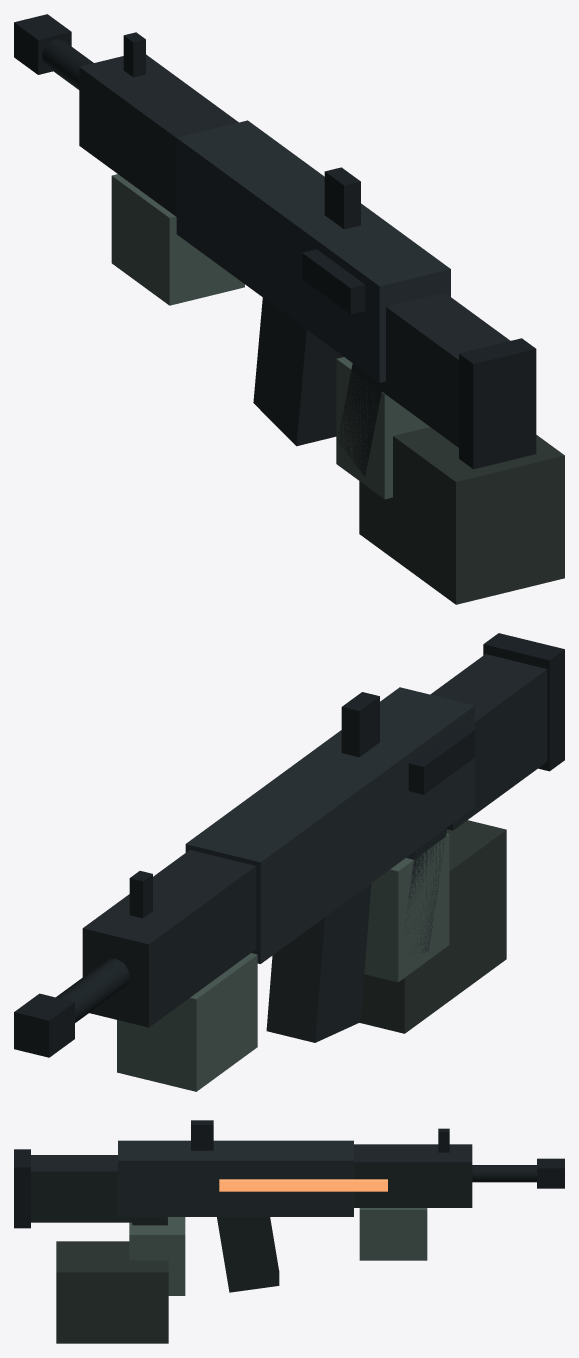
File: rifle.glb
3 renders of one model, top to bottom at view 1: azimuth 30°, elevation 25°; view 2: azimuth 150°, elevation 25°; view 3: azimuth 270°, elevation 25°, orthographic. The views are drawn at different scales.
Visible parts, largest first — view 1: Body, SleeveRear, Handguard, Stock, Buttpad, Mag, GloveFront, GloveRear, Grip, Charging, MuzzleBrake, SightRear (+2 smaller); view 2: Body, Handguard, SleeveRear, GloveFront, Mag, Stock, GloveRear, Buttpad, MuzzleBrake, Charging, Barrel, SightRear (+2 smaller); view 3: Body, SleeveRear, Handguard, Stock, Mag, GloveFront, GloveRear, RailGlow, Buttpad, Barrel, MuzzleBrake, SightRear (+2 smaller).
Part boxes in pixels (bbox=[...]): Body: bbox=[176, 120, 450, 382]; SleeveRear: bbox=[359, 427, 564, 604]; Handguard: bbox=[79, 54, 238, 216]; Stock: bbox=[371, 292, 510, 447]; Buttpad: bbox=[459, 338, 536, 469]; Mag: bbox=[253, 297, 343, 446]; GloveFront: bbox=[111, 174, 244, 305]; GloveRear: bbox=[336, 357, 429, 499]; Grip: bbox=[338, 363, 381, 476]; Charging: bbox=[302, 249, 365, 314]; MuzzleBrake: bbox=[14, 14, 71, 74]; SightRear: bbox=[324, 167, 360, 229]; Body: bbox=[185, 687, 474, 963]; Handguard: bbox=[82, 850, 256, 1027]; SleeveRear: bbox=[359, 820, 506, 1033]; GloveFront: bbox=[117, 953, 257, 1091]; Mag: bbox=[266, 883, 371, 1042]; Stock: bbox=[430, 654, 547, 830]; GloveRear: bbox=[364, 833, 449, 982]; Buttpad: bbox=[483, 633, 564, 771]; MuzzleBrake: bbox=[14, 993, 74, 1057]; Charging: bbox=[408, 726, 474, 794]; Barrel: bbox=[56, 958, 129, 1022]; SightRear: bbox=[341, 692, 379, 757]; Body: bbox=[118, 1140, 353, 1216]; SleeveRear: bbox=[56, 1241, 168, 1343]; Handguard: bbox=[354, 1144, 472, 1207]; Stock: bbox=[31, 1155, 134, 1222]; Mag: bbox=[217, 1217, 279, 1292]; GloveFront: bbox=[359, 1208, 427, 1260]; GloveRear: bbox=[129, 1217, 185, 1295]; RailGlow: bbox=[219, 1179, 387, 1191]; Buttpad: bbox=[14, 1149, 30, 1228]; Barrel: bbox=[472, 1165, 536, 1182]; MuzzleBrake: bbox=[537, 1158, 564, 1188]; SightRear: bbox=[191, 1120, 213, 1150].
Bounding box in the file's own units: 0.175 × 0.38 × 0.98.
